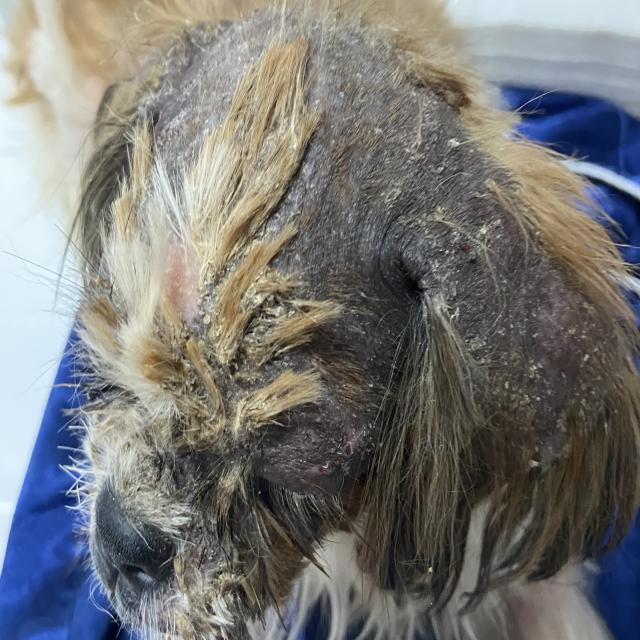demodicosis: (269, 68, 584, 481), (159, 230, 267, 441), (144, 26, 257, 160)
